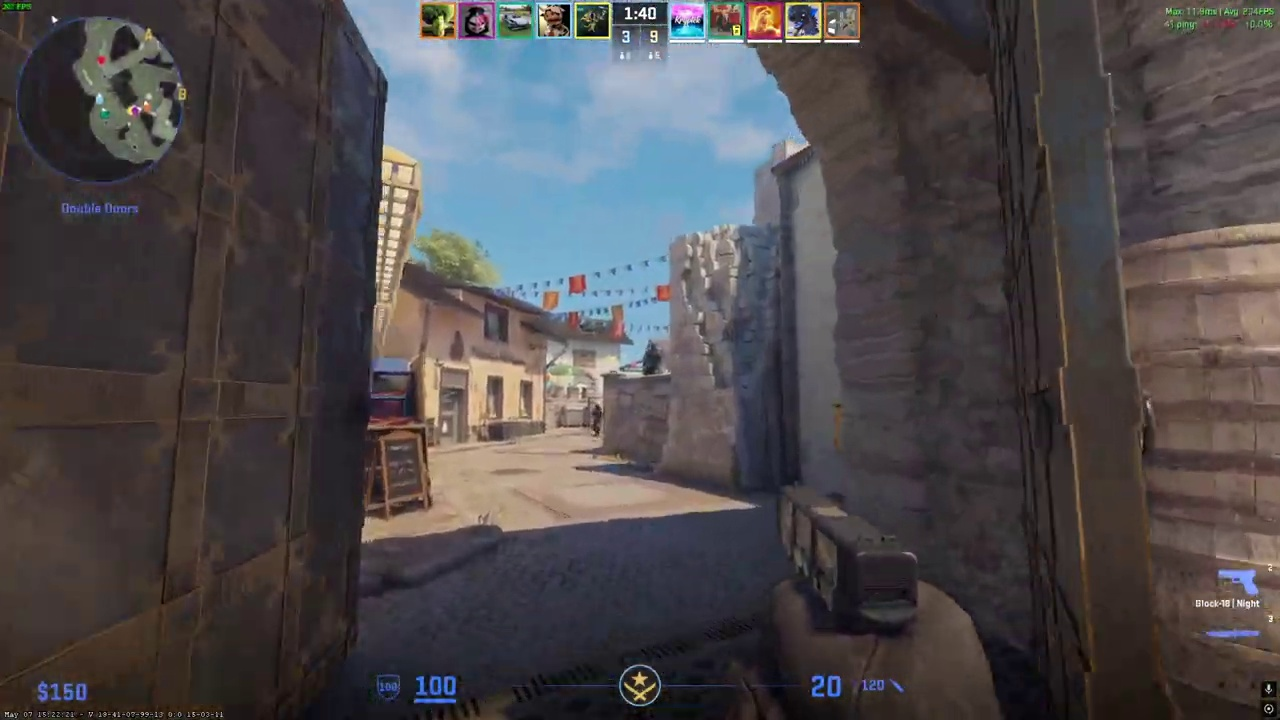CT: (589, 404, 604, 436)
